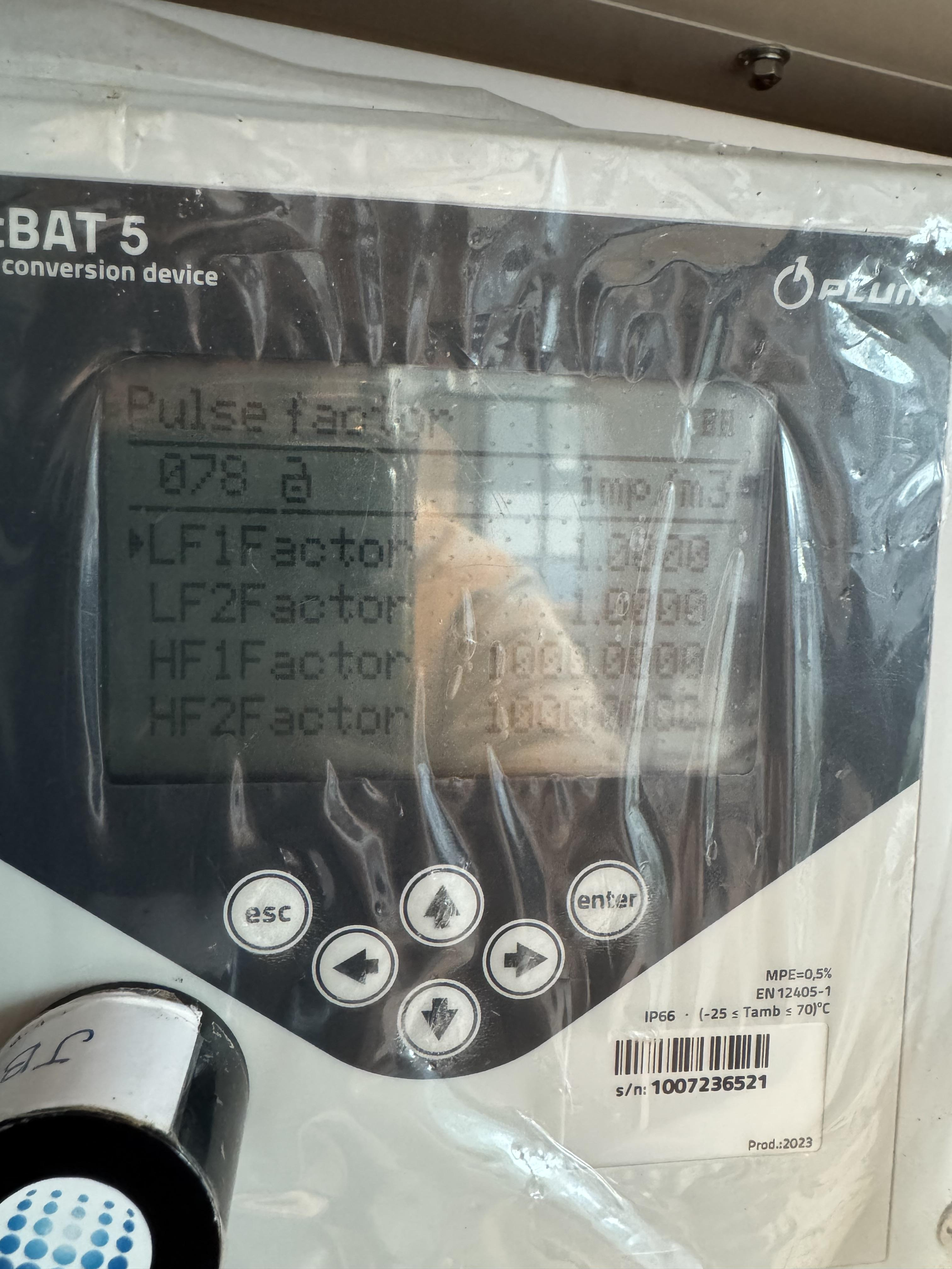digital_screen: (107, 356, 771, 783)
